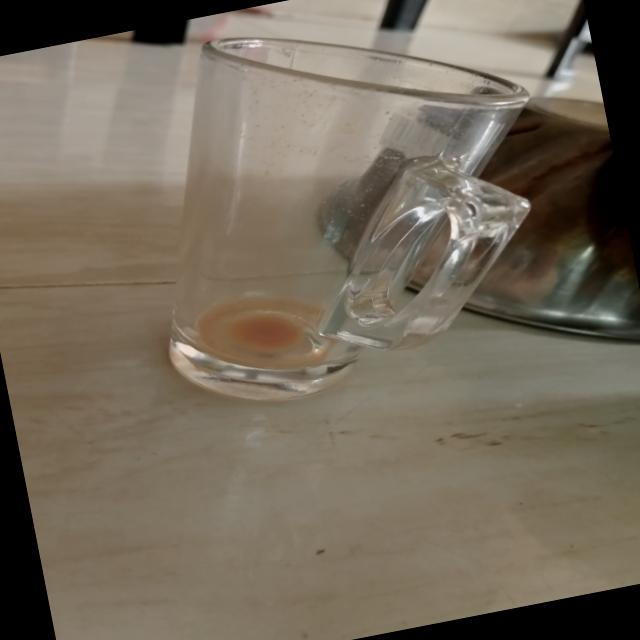glass-VX4N: (108, 0, 584, 429)
